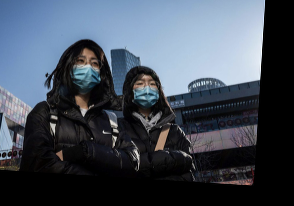with_mask: (69, 53, 102, 95), (132, 76, 161, 109)
